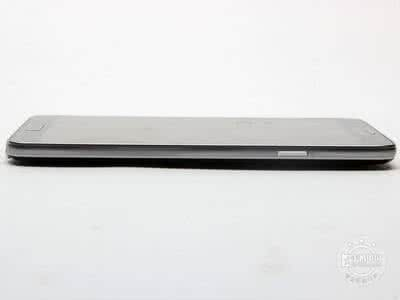phone: (13, 112, 395, 167)
